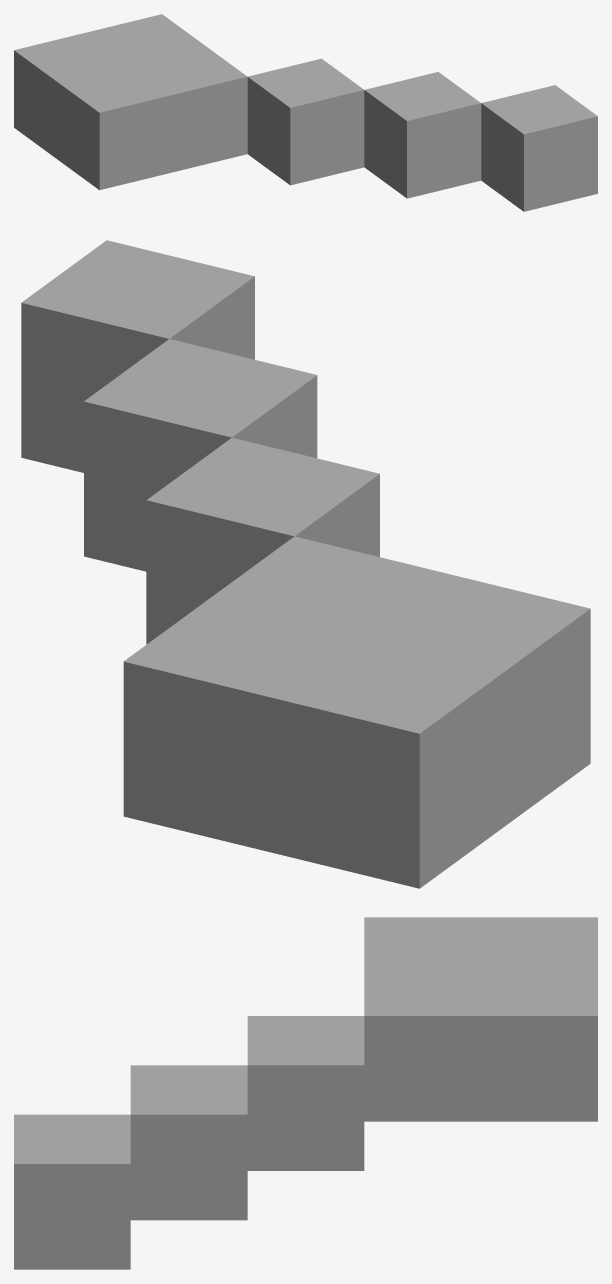
The model's file is Spoon.obj.
3 views of the same model, one above another, from view 1: azimuth 30°, elevation 25°; view 2: azimuth 150°, elevation 25°; view 3: azimuth 270°, elevation 25° (orthographic). The views are drawn at different scales.
Visible parts, largest first — view 1: Spoon; view 2: Spoon; view 3: Spoon.
Boxes of the visible parts, x1,y1,x2,y2 form: Spoon: [14, 14, 597, 211]; Spoon: [21, 240, 590, 888]; Spoon: [14, 917, 597, 1269].
Bounding box in the file's own units: 5 × 1 × 5.
1 material, 1 textured.
